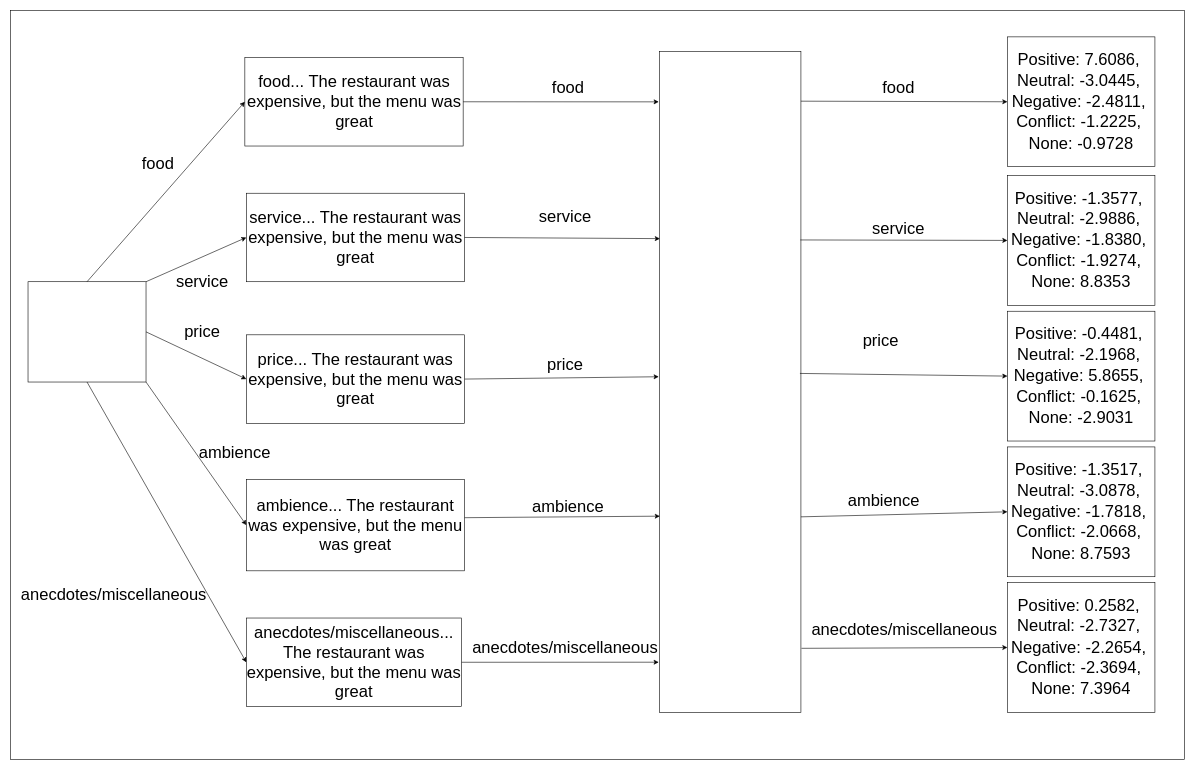
This 1195x770 diagram has some shape labels left out. Here are the shapes that lost their labels. From the top down, the centre of each, then its label:
(x=86, y=331): The restaurant was expensive, but the menu was great
(x=730, y=381): Sentence Classification Model
